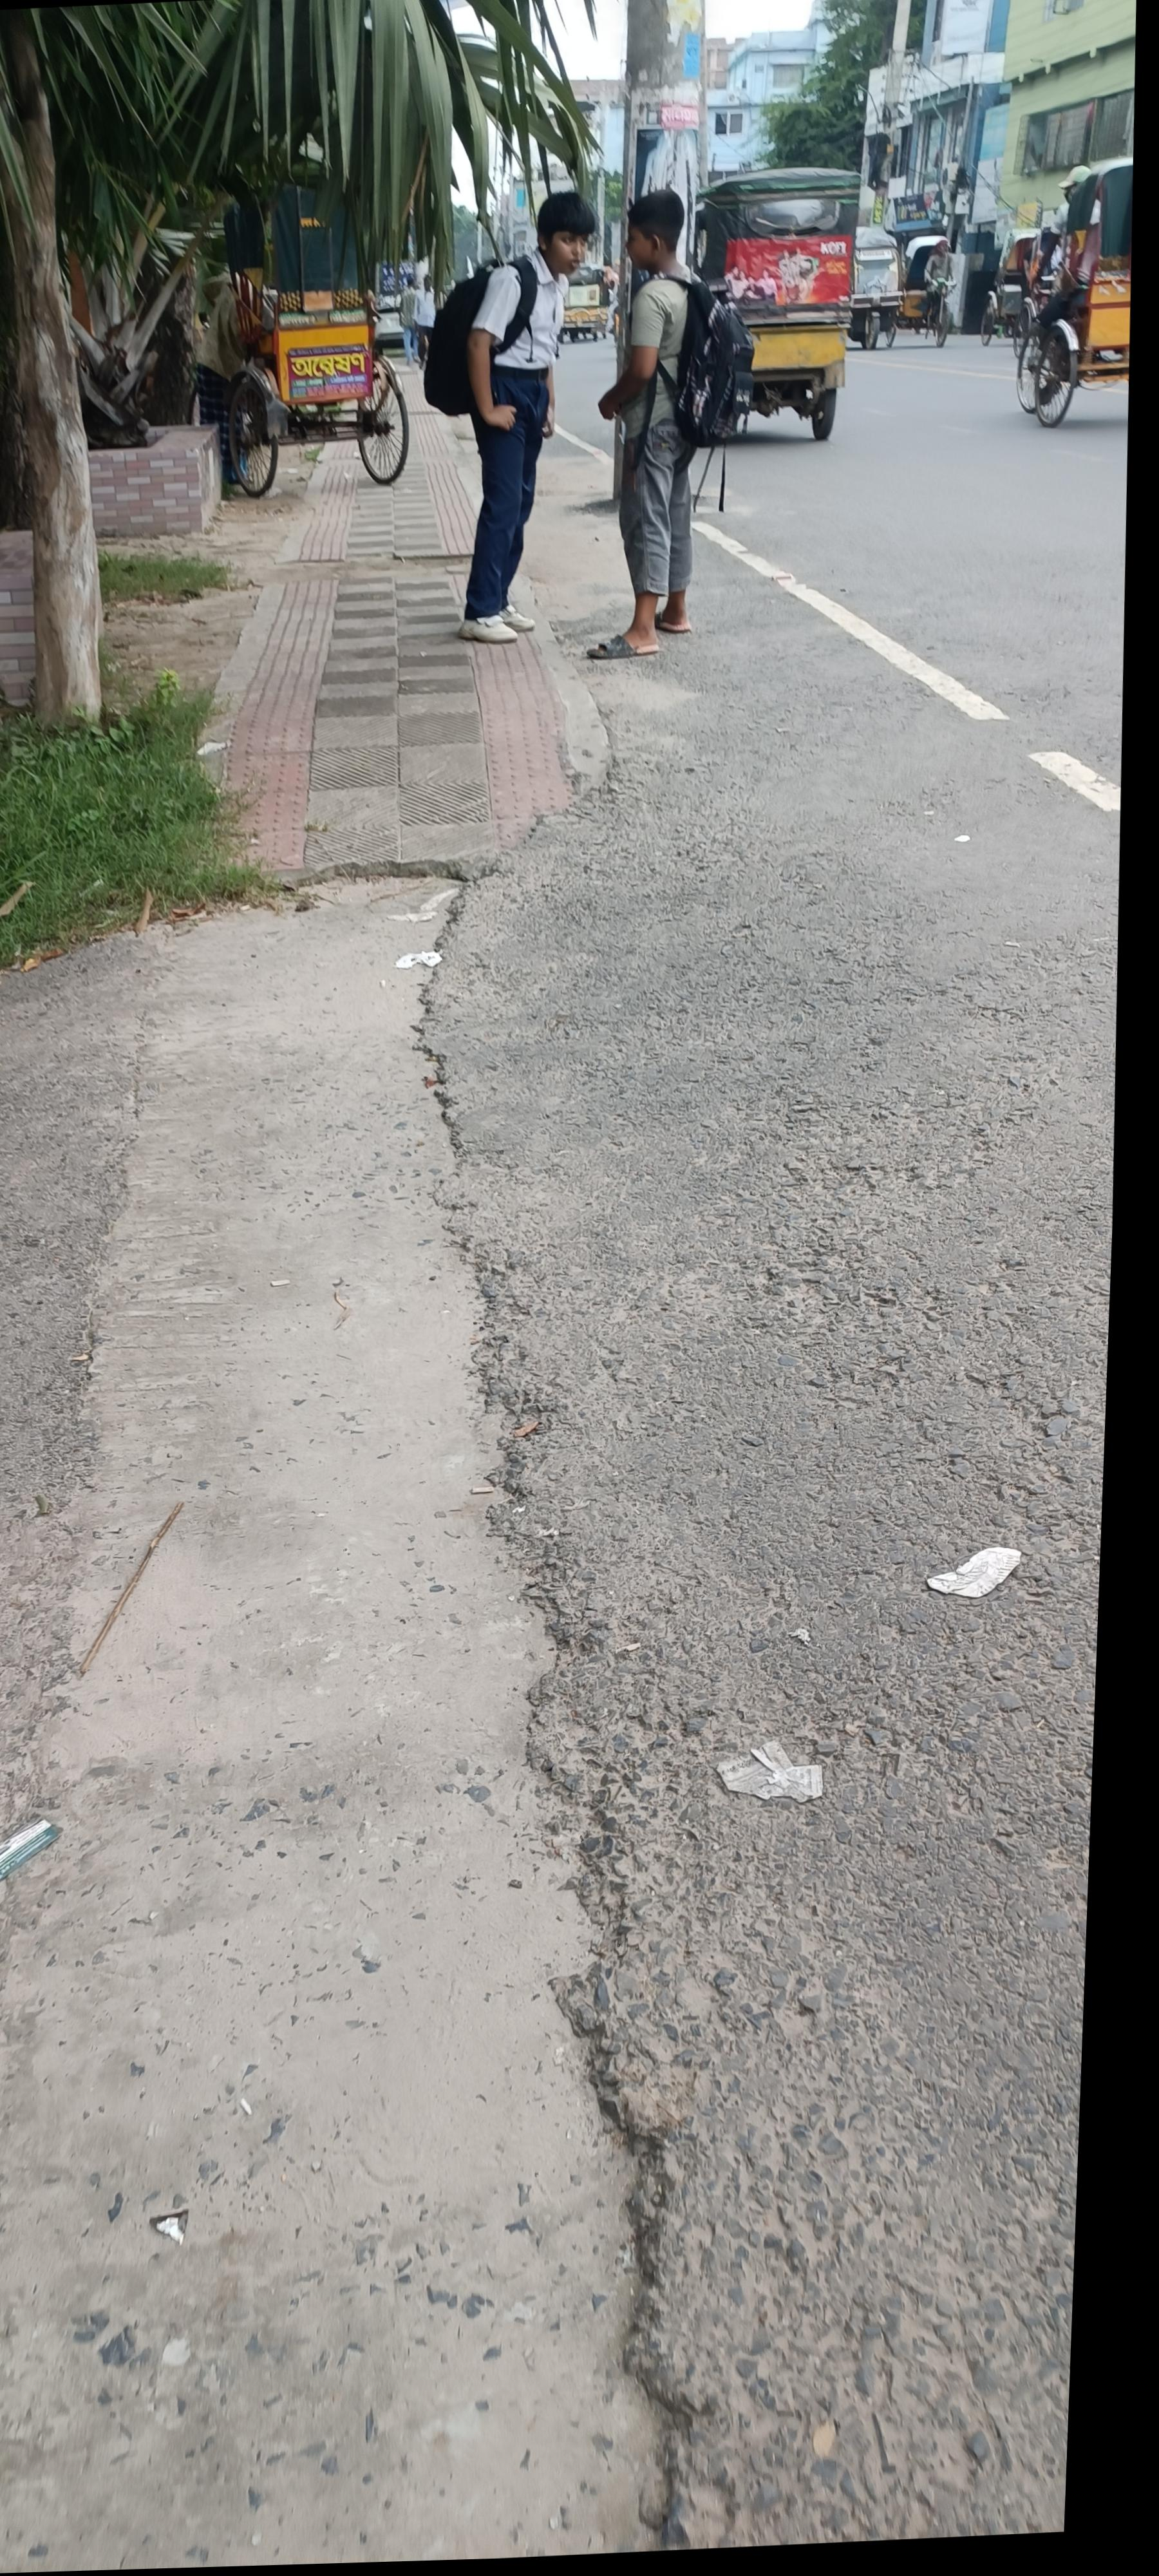Garbage-bin: (432, 202, 584, 659), (563, 202, 701, 675)
